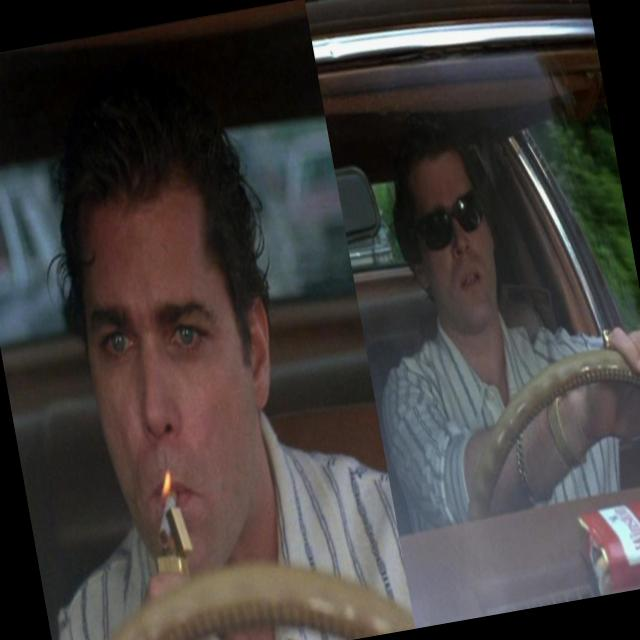smoke: (142, 468, 195, 556)
